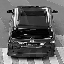motor: (16, 5, 46, 54)
